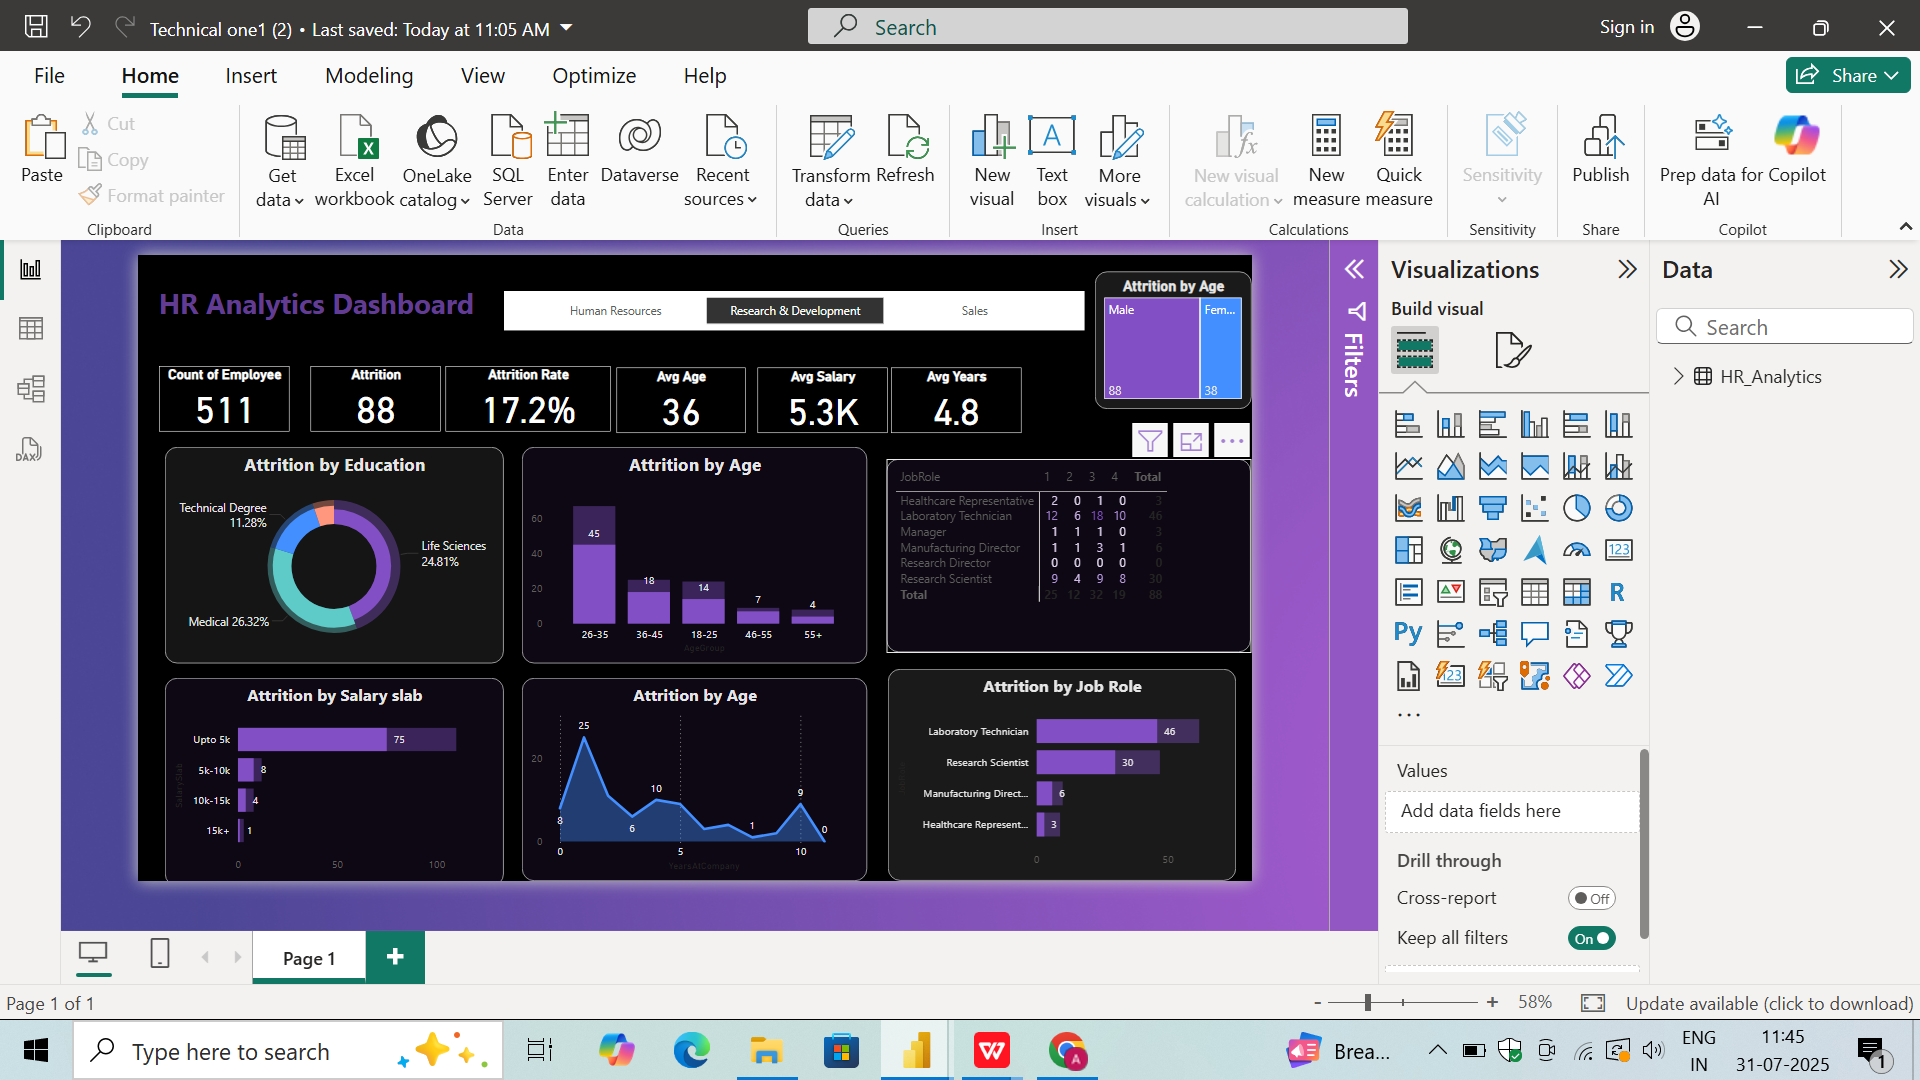

What the dashboard file says about the page in this screenshot:
{"tool":"powerbi","page":{"name":"Page 1","canvas":[1280,720],"ordinal":0},"visuals":[{"type":"card","title":"Count of Employee","fields":{"Values":["CountNonNull(HR_Analytics.EmpID)"]},"box":[23.3,128.3,150,75],"z":0},{"type":"card","title":"Attrition","fields":{"Values":["Sum(HR_Analytics.AttritionCount)"]},"box":[198.3,128.3,150,75],"z":1000},{"type":"card","title":"Attrition Rate","fields":{"Values":["HR_Analytics.AttritionRate"]},"box":[353.3,128.3,190,75],"z":2000},{"type":"card","title":"Avg Salary","fields":{"Values":["Avg(HR_Analytics.MonthlyIncome)"]},"box":[711.7,130,150,75],"z":3000},{"type":"card","title":"Avg Years","fields":{"Values":["Avg(HR_Analytics.YearsAtCompany)"]},"box":[865,130,150,75],"z":4000},{"type":"card","title":"Avg Age","fields":{"Values":["Avg(HR_Analytics.Age)"]},"box":[550,130,148.3,75],"z":5000},{"type":"donutChart","title":"Attrition by Education","fields":{"Category":["HR_Analytics.EducationField"],"Y":["Sum(HR_Analytics.AttritionCount)"]},"box":[31.3,220.4,389.2,248.5],"z":6000},{"type":"columnChart","title":"Attrition by Age","fields":{"Category":["HR_Analytics.AgeGroup"],"Y":["Sum(HR_Analytics.AttritionCount)"]},"box":[441.7,220,396.7,248.3],"z":7000},{"type":"pivotTable","fields":{"Rows":["HR_Analytics.JobRole"],"Columns":["HR_Analytics.JobSatisfaction"],"Values":["Sum(HR_Analytics.AttritionCount)"]},"box":[861.2,234.4,418.9,221.9],"z":8000},{"type":"barChart","title":"Attrition by Salary slab","fields":{"Category":["HR_Analytics.SalarySlab"],"Y":["Sum(HR_Analytics.AttritionCount)"]},"box":[31.3,486.1,389.2,239.1],"z":9000},{"type":"barChart","title":"Attrition by Job Role","fields":{"Category":["HR_Analytics.JobRole"],"Y":["Sum(HR_Analytics.AttritionCount)"]},"box":[861.7,476.7,400,243.3],"z":10000},{"type":"areaChart","title":"Attrition by Age","fields":{"Category":["HR_Analytics.YearsAtCompany"],"Y":["Sum(HR_Analytics.AttritionCount)"]},"box":[441.7,486.7,396.7,233.3],"z":11000},{"type":"treemap","title":"Attrition by Age","fields":{"Group":["HR_Analytics.Gender"],"Values":["Sum(HR_Analytics.AttritionCount)"]},"box":[1100.3,18.8,179.7,157.9],"z":12000},{"type":"slicer","fields":{"Values":["HR_Analytics.Department"]},"box":[420.4,40.6,667.4,45.3],"z":13000},{"type":"textbox","box":[0,28.3,410,70],"z":14000}]}

Visuals, with their boxes on the page's 1280x720 design canvas (x1, y1, x2, y2). These are canvas units, not pixel positions in the 1920x1080 screenshot, which may show the page scaled, cropped or inside an application window:
"Count of Employee" card: (23,128,173,203)
"Attrition" card: (198,128,348,203)
"Attrition Rate" card: (353,128,543,203)
"Avg Salary" card: (712,130,862,205)
"Avg Years" card: (865,130,1015,205)
"Avg Age" card: (550,130,698,205)
"Attrition by Education" donutChart: (31,220,420,469)
"Attrition by Age" columnChart: (442,220,838,468)
pivotTable - HR_Analytics.JobRole x HR_Analytics.JobSatisfaction: (861,234,1280,456)
"Attrition by Salary slab" barChart: (31,486,420,725)
"Attrition by Job Role" barChart: (862,477,1262,720)
"Attrition by Age" areaChart: (442,487,838,720)
"Attrition by Age" treemap: (1100,19,1280,177)
slicer - HR_Analytics.Department: (420,41,1088,86)
textbox: (0,28,410,98)
